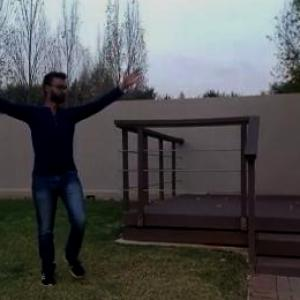takeoff: (0, 60, 144, 284)
